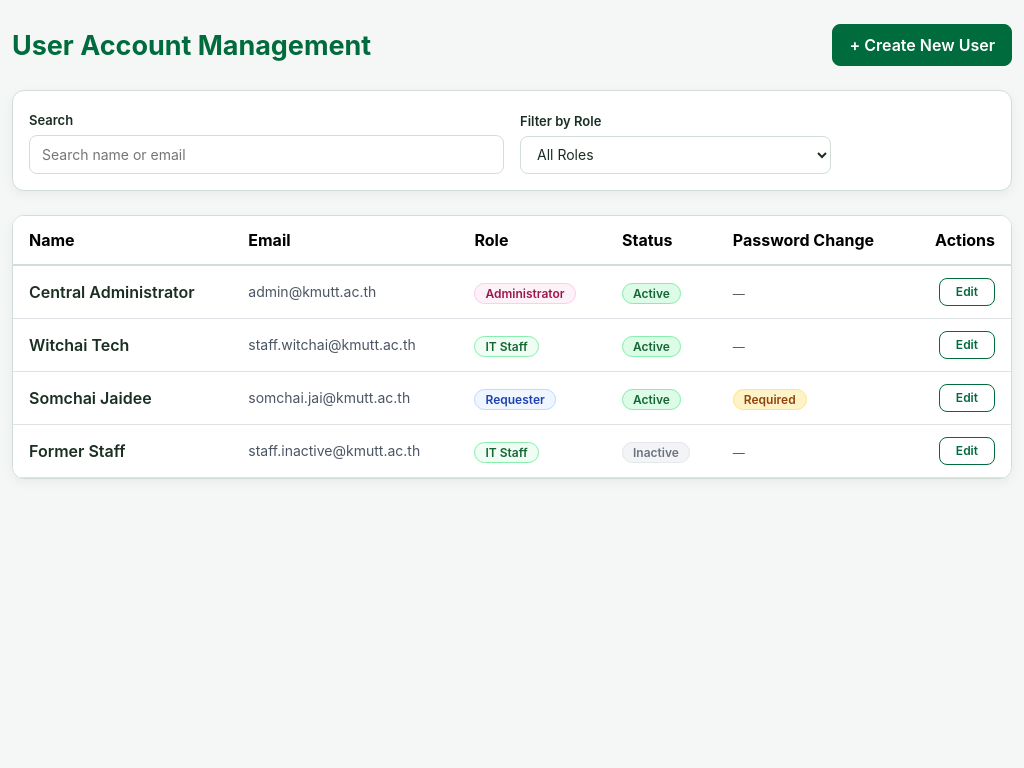
Admin User Management Component UI Tests (ADMIN-UI-01, ADMIN-UI-02) › ADMIN-UI-01: Table Rendering, Search, and Create User Modal › handles create user duplicate email 409 conflict safely
Expected: the text "Central Administrator" is shown, [13, 264, 232, 318]
Click the button "+ Create New User" at point(922, 45), box [832, 24, 1012, 66]
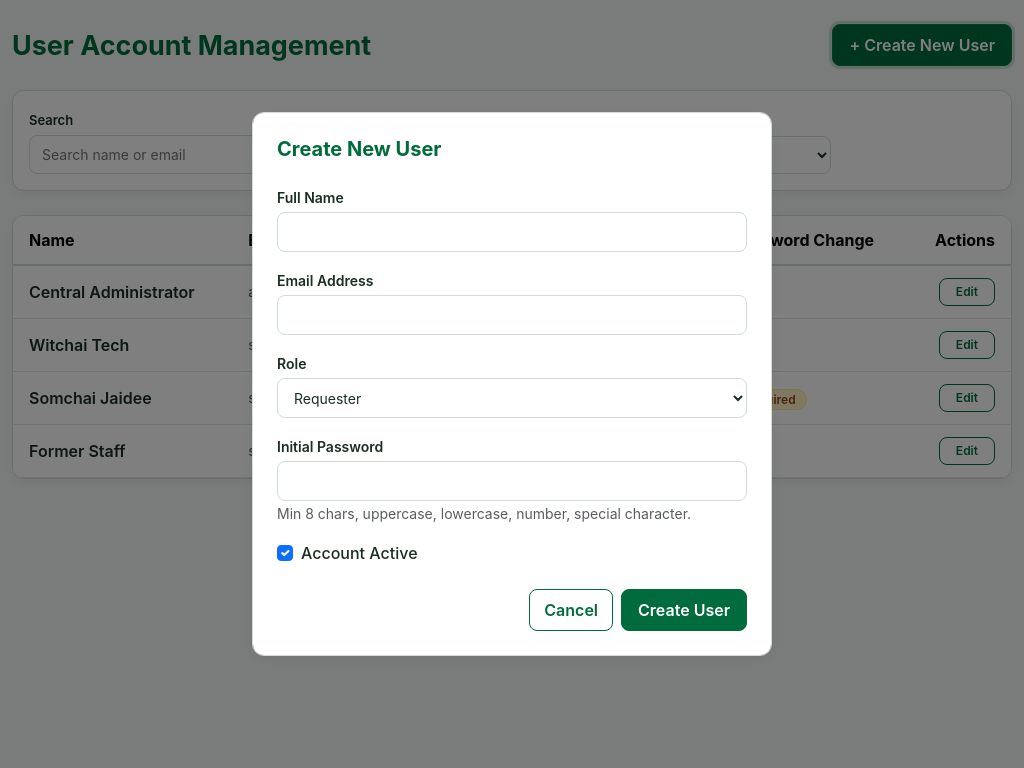
Type "Duplicate Person" into the field labelled "Full Name" at point(512, 232), box [277, 212, 747, 252]
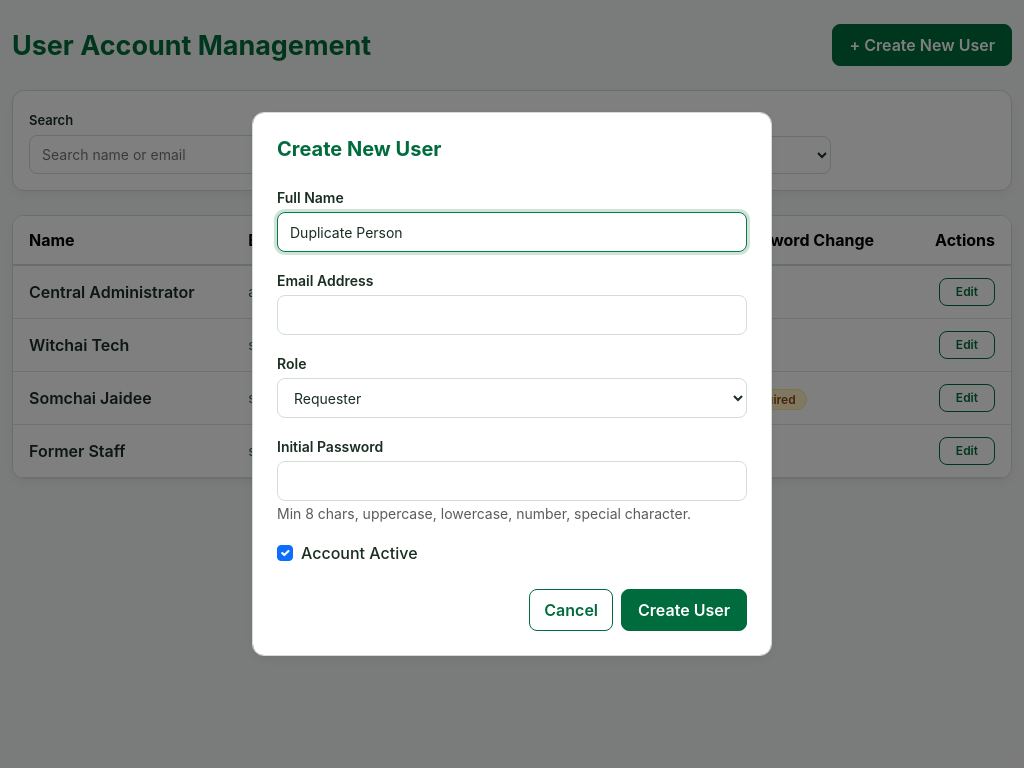
Type "admin@kmutt.ac.th" into the field labelled "Email Address" at point(512, 315), box [277, 295, 747, 335]
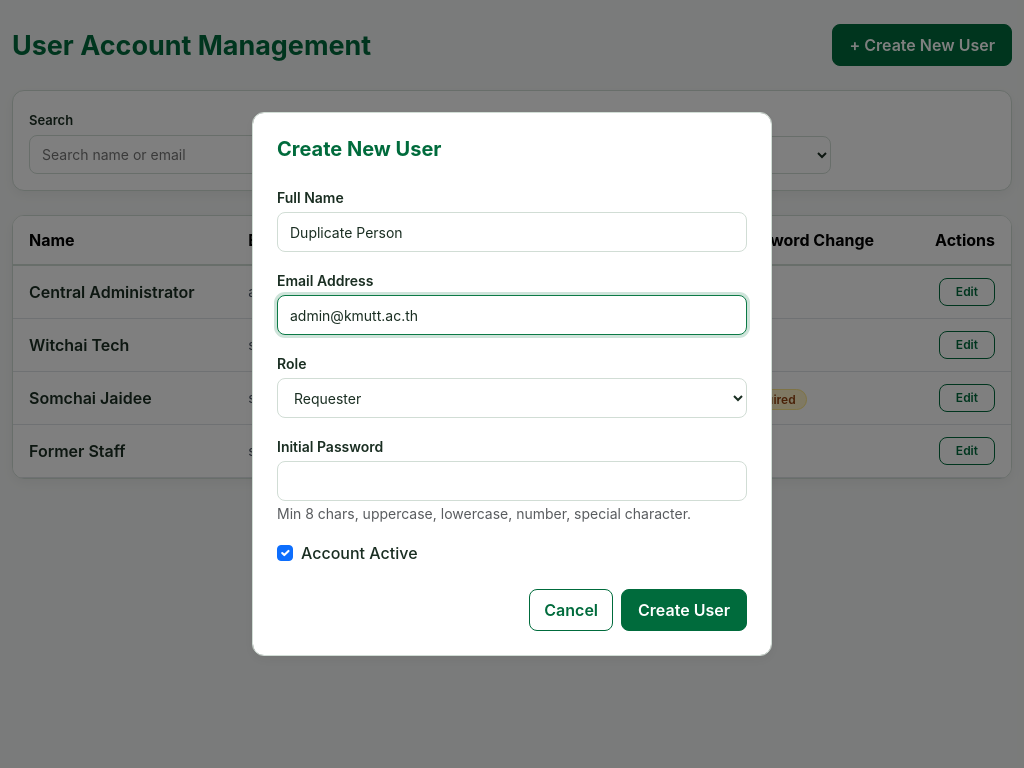
Select "Requester" in the dropdown labelled "Role" at point(512, 398), box [277, 378, 747, 418]
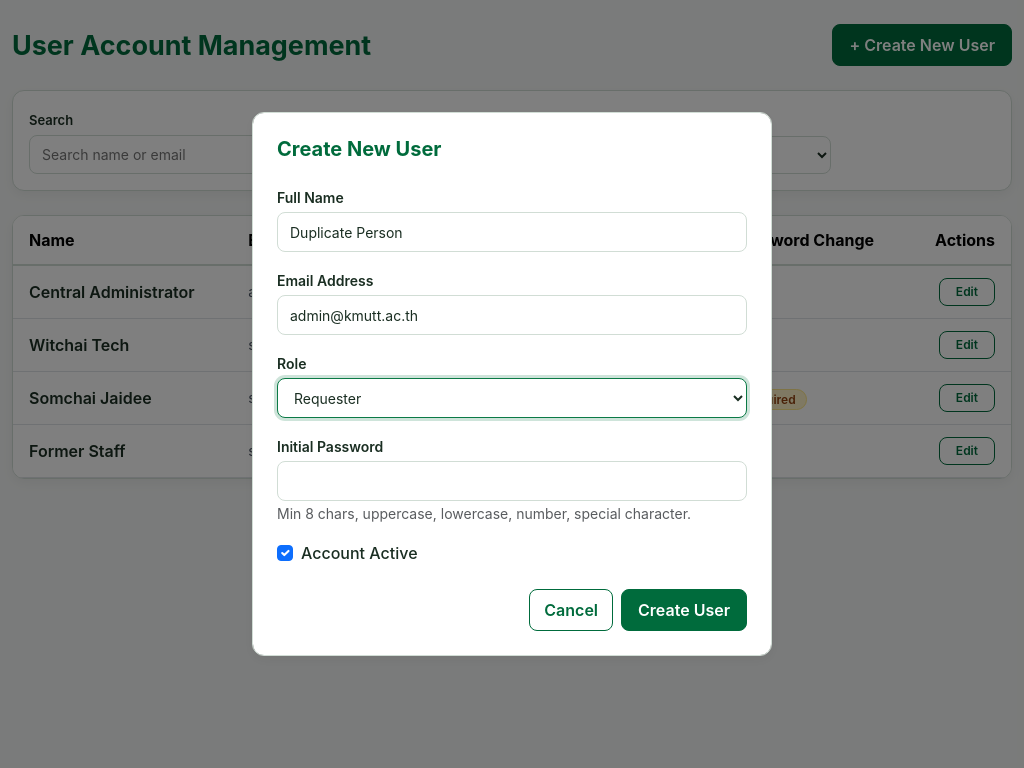
Type "InitialPassword123!" into the password field labelled "Initial Password" at point(512, 481), box [277, 461, 747, 501]
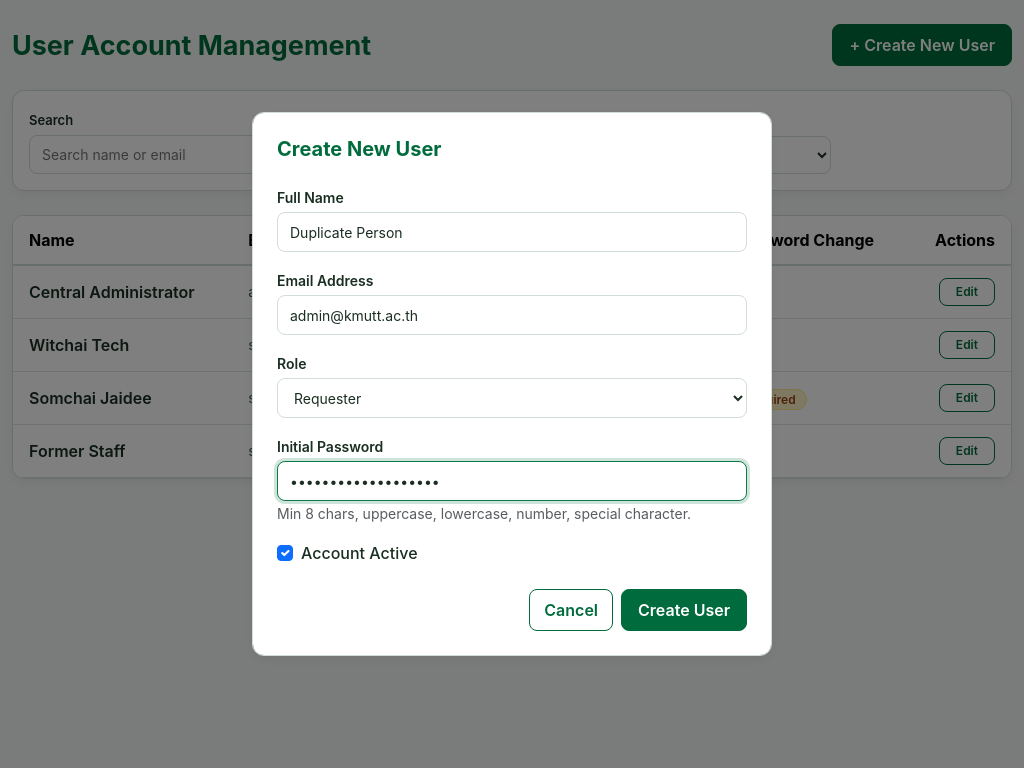
Click the button "Create User" at point(684, 610), box [621, 589, 747, 631]
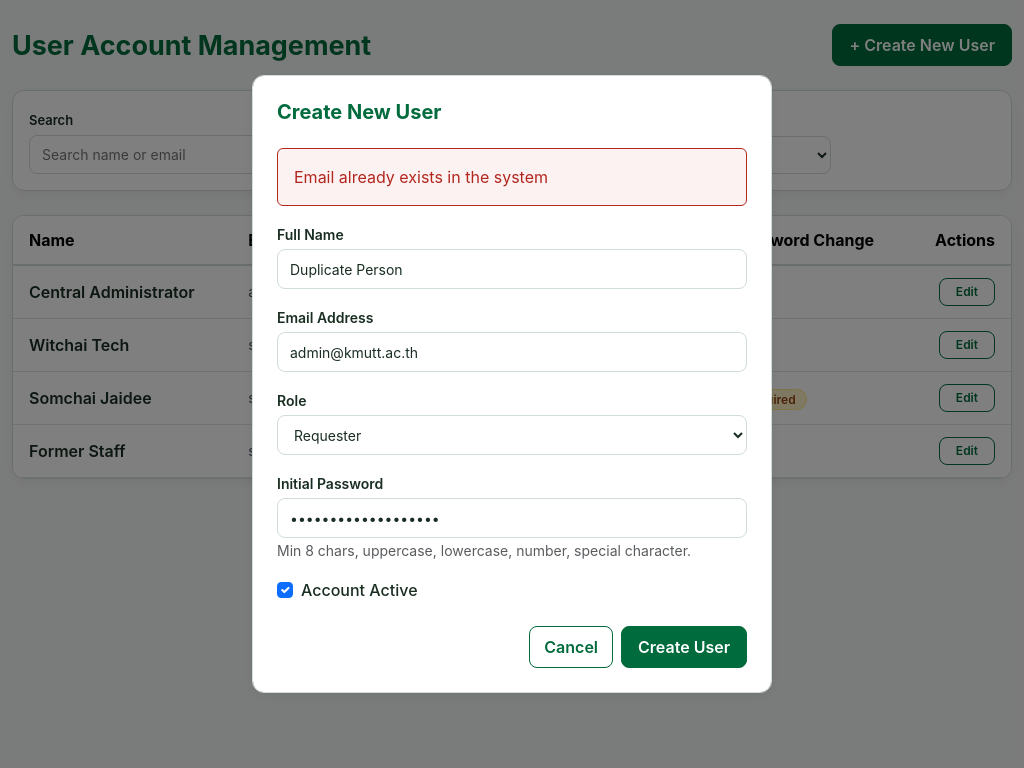
Now the text "Email already exists in the system" is shown, box [277, 148, 747, 206]
